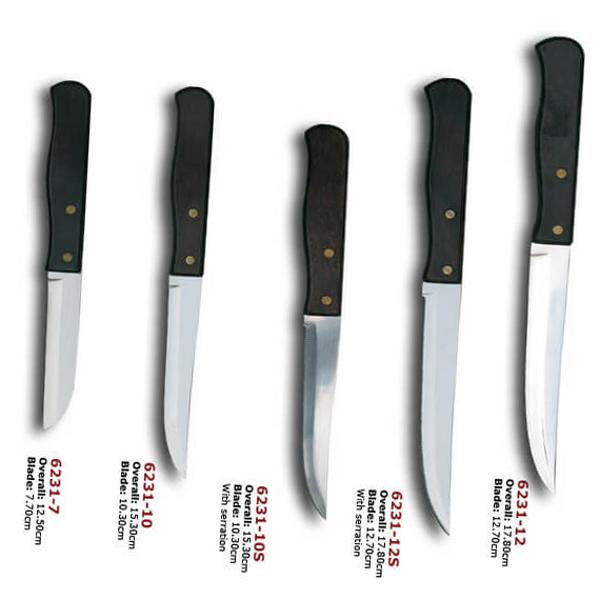knife: (523, 35, 585, 494), (419, 79, 476, 536), (161, 86, 215, 480), (38, 80, 93, 434), (299, 125, 346, 521)
